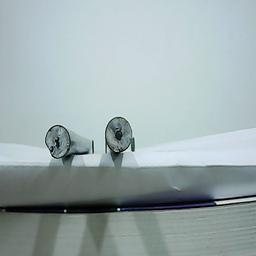pen: (105, 115, 132, 154), (44, 124, 71, 159)
